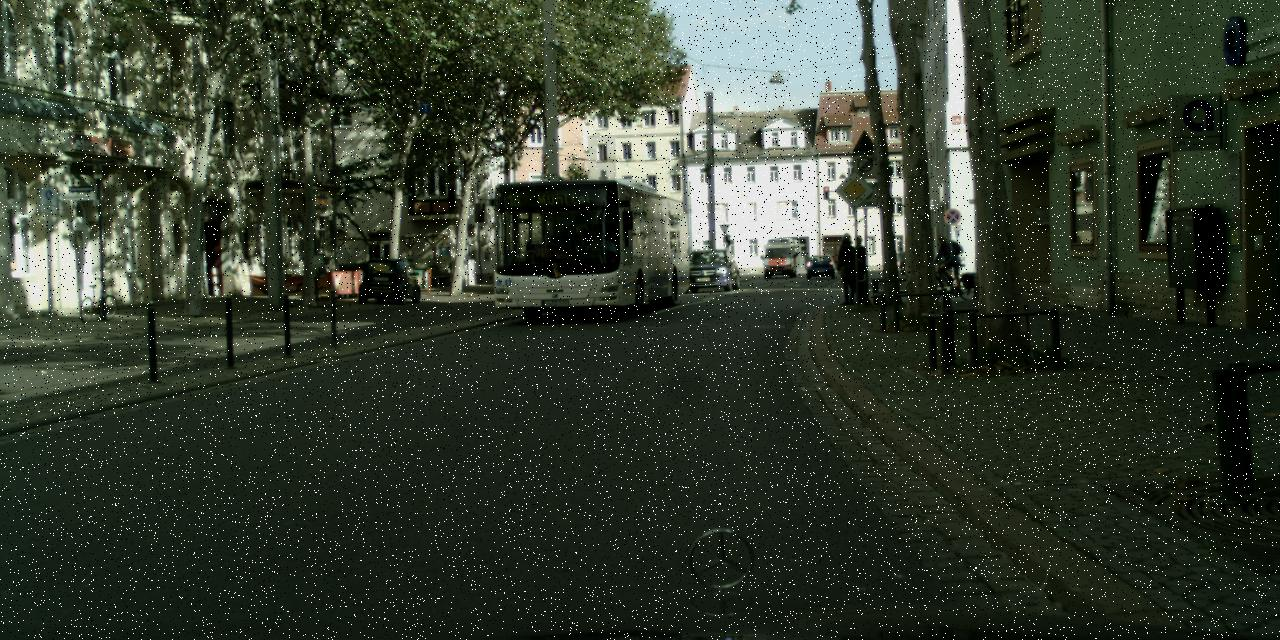ped: (836, 233, 856, 304), (935, 234, 957, 288), (858, 234, 872, 306), (896, 248, 906, 274)
